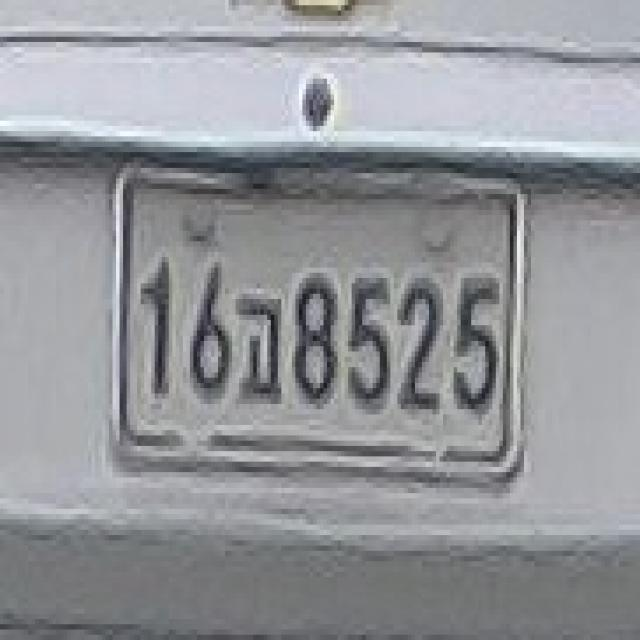1: (134, 252, 182, 414)
2: (397, 268, 450, 436)
5: (450, 262, 503, 430), (344, 257, 394, 420)
6: (183, 252, 235, 414)
8: (288, 257, 345, 414)
go: (236, 288, 288, 414)
license_plate: (98, 147, 534, 503)
